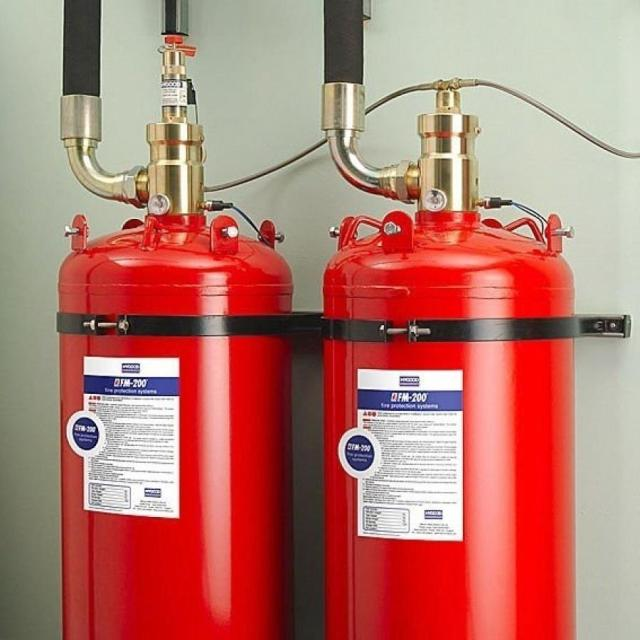fire_extinguisher: (317, 1, 588, 639), (45, 0, 299, 639)
